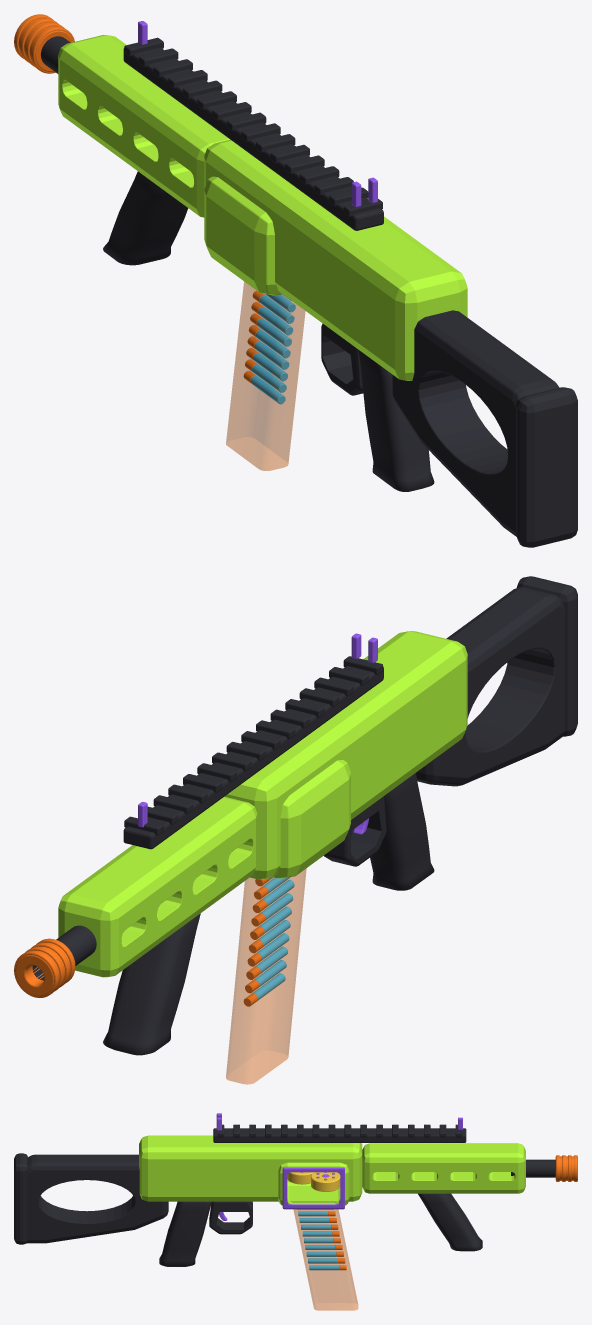
The picture shows the model from 3 angles, top to bottom: view 1: azimuth 30°, elevation 25°; view 2: azimuth 150°, elevation 25°; view 3: azimuth 270°, elevation 25°; orthographic projection. The views are drawn at different scales.
Visible parts, largest first — view 1: body, mag; view 2: body, mag; view 3: body, mag, flywheel_r, flywheel_l.
Boxes of the visible parts, x1,y1,x2,y2 form: body: (14, 14, 577, 547); mag: (226, 281, 305, 470); body: (14, 576, 577, 1055); mag: (226, 868, 306, 1084); body: (14, 1113, 577, 1266); mag: (293, 1209, 358, 1310); flywheel_r: (311, 1172, 340, 1191); flywheel_l: (287, 1172, 313, 1184).
Size of the model in its own units: 0.083 by 0.283 by 0.758.
